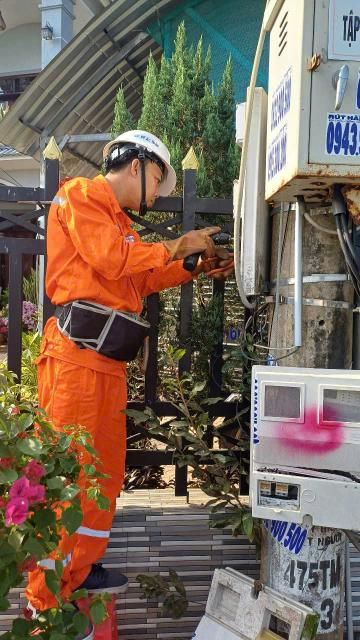gloves: (159, 225, 230, 271), (173, 248, 237, 282)
harness: (21, 281, 159, 368)
helmet: (105, 117, 208, 221)
shoes: (71, 563, 142, 599), (55, 598, 102, 640)
